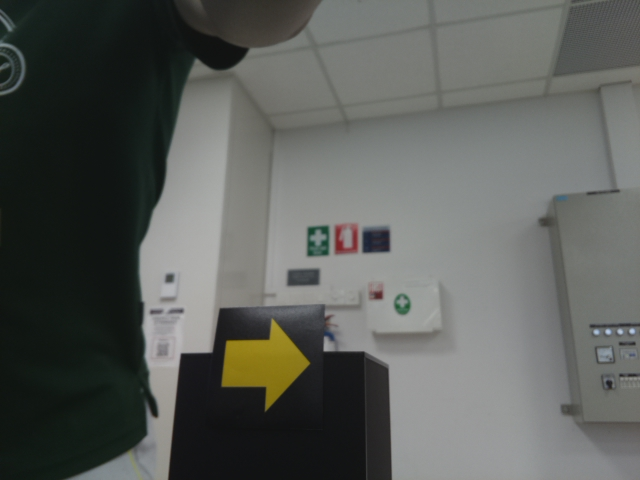right: (214, 319, 319, 413)
